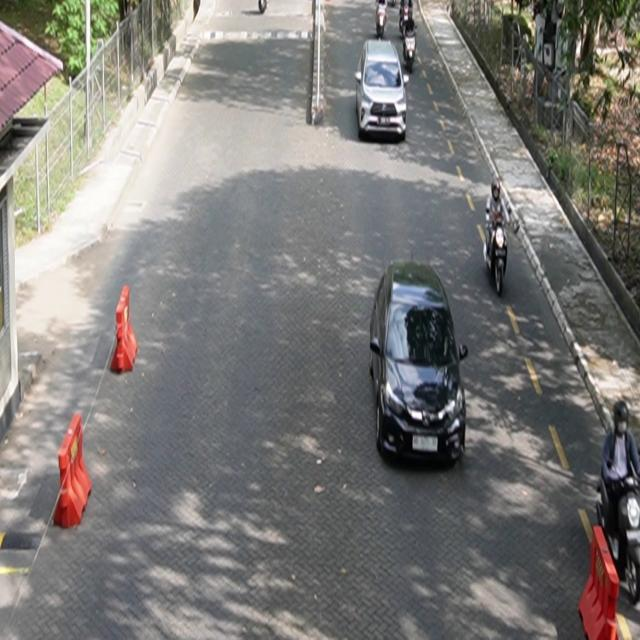car: (370, 260, 469, 467), (355, 40, 410, 142)
